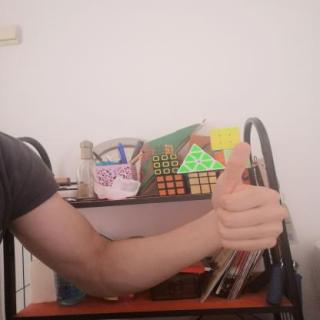ALIF: (201, 135, 297, 260)
